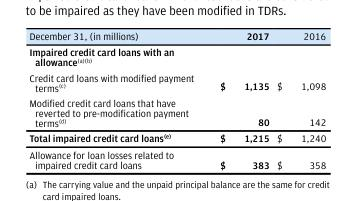table: (28, 29, 325, 170)
table column: (28, 29, 206, 170), (206, 29, 272, 170), (272, 29, 325, 170)
table column header: (28, 29, 325, 43)
table projected row header: (28, 43, 325, 69)
table row: (28, 94, 325, 129), (28, 43, 325, 69), (28, 69, 325, 94), (28, 145, 325, 170), (28, 129, 325, 145), (28, 29, 325, 43)
